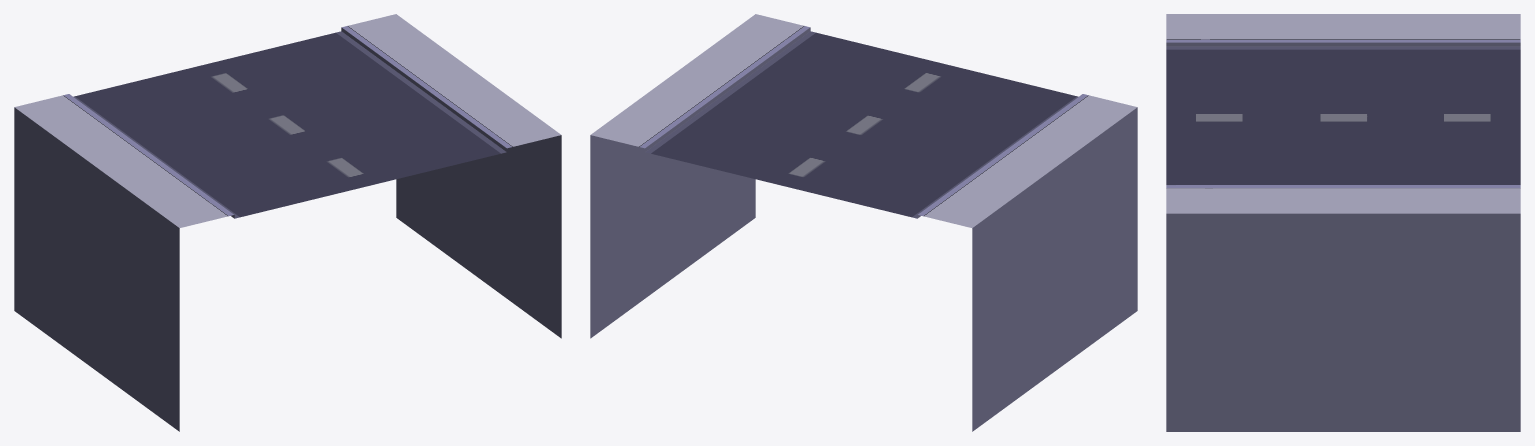
Rendered from block_2.fbx.
3 renders of one model, left to right at view 1: azimuth 30°, elevation 25°; view 2: azimuth 150°, elevation 25°; view 3: azimuth 270°, elevation 25°, orthographic. The views are drawn at different scales.
Parts seen in each view (by area): view 1: Block_2; view 2: Block_2; view 3: Block_2.
Boxes of the visible parts, box(x1,y1,x2,y2) form: Block_2: box(14, 14, 561, 431); Block_2: box(590, 14, 1137, 431); Block_2: box(1166, 14, 1520, 431).
Size of the model in its own units: 20 by 10.19 by 15.
1 material, 1 textured.
